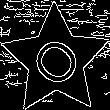O_SE: (23, 28, 88, 93)
